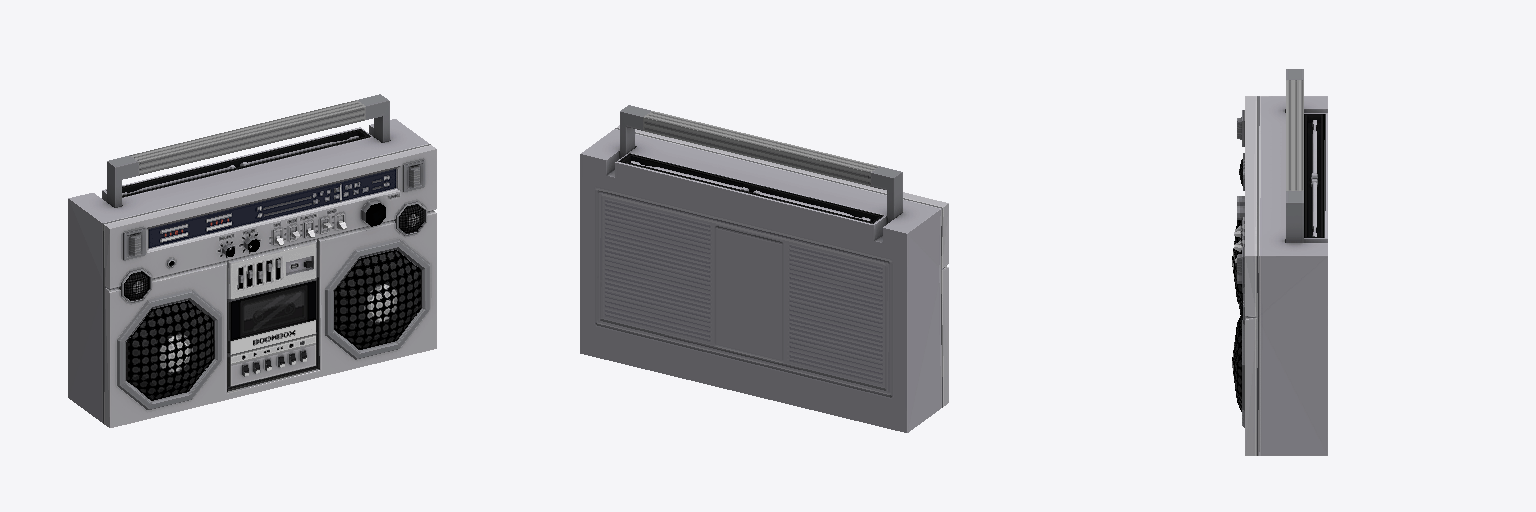
3 renders of one model, left to right at view 1: azimuth 30°, elevation 25°; view 2: azimuth 150°, elevation 25°; view 3: azimuth 270°, elevation 25°, orthographic.
Parts seen in each view (by area): view 1: Boombox; view 2: Boombox; view 3: Boombox.
Part boxes in pixels (bbox=[...]): Boombox: bbox=[68, 94, 436, 427]; Boombox: bbox=[580, 105, 948, 432]; Boombox: bbox=[1232, 69, 1327, 455].
Bounding box in the file's own units: 2.63 × 1.84 × 0.6724.
Materials: 1 (1 with a texture image).